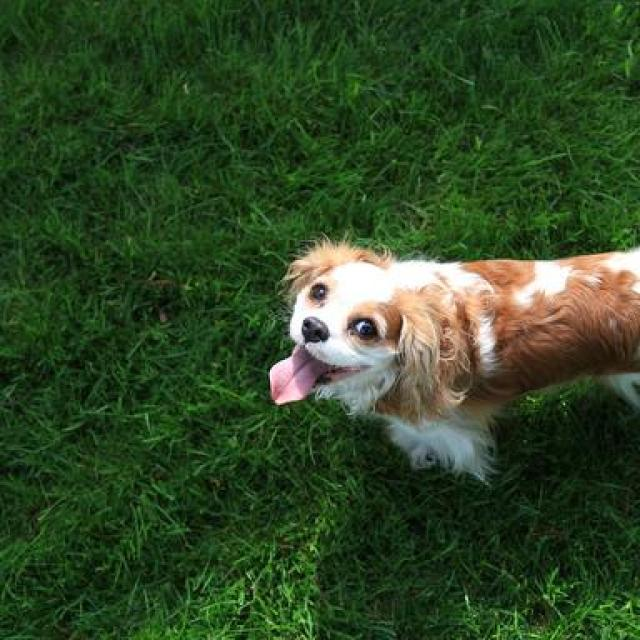happy: (264, 216, 640, 484)
